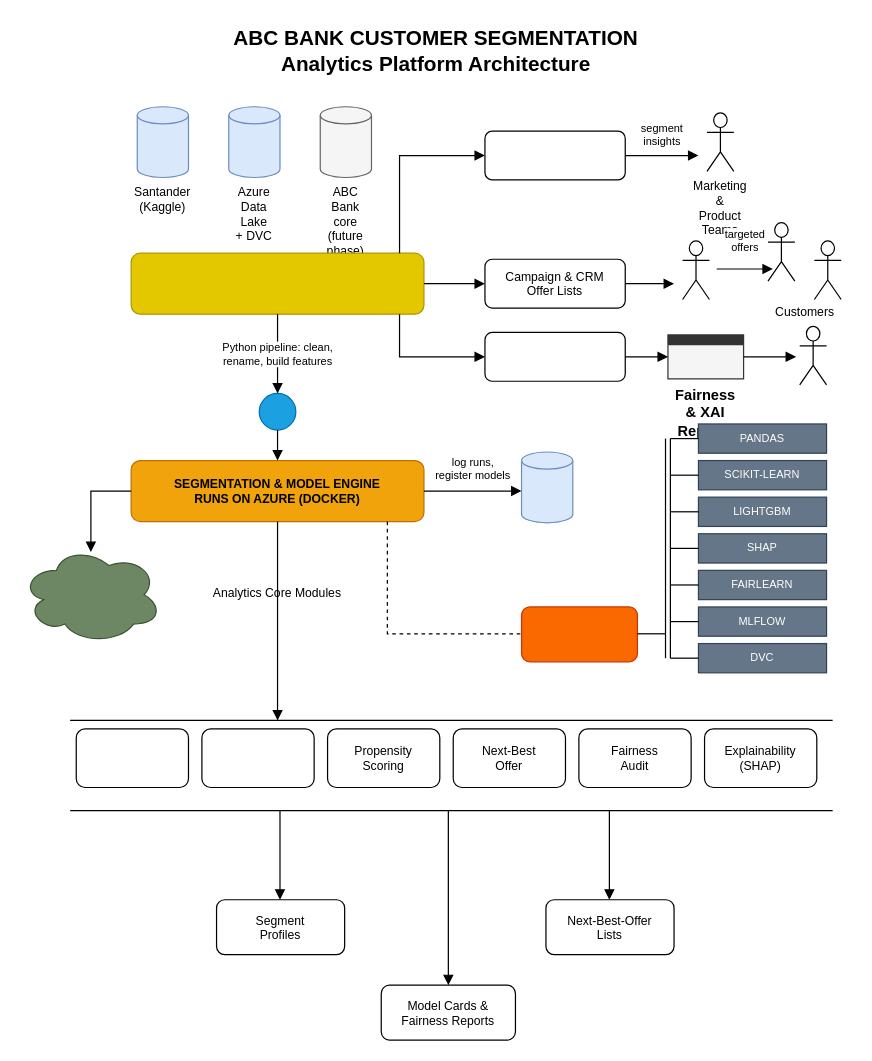
Some shapes in this 872 by 1061 pixel diagram are drawn without their labels. Each missing label, with the centre of its shape:
"ABC BANK DATA & ANALYTICS HUB HOSTED ON AZURE" goes at point (277, 283).
"Customer Segmentation" goes at point (257, 758).
"Data Cleaning & Features" goes at point (131, 758).
"Ethics Panel" goes at point (812, 355).
"Fairness & XAI audit (Fairlearn, SHAP)" goes at point (91, 594).
"GitHub Repo + Actions CI" goes at point (578, 634).
"MLflow Model Registry" goes at point (546, 487).
"Model Ethics Review Pack" goes at point (554, 356).
"Relationship Manager" goes at point (695, 270).
"Segment Dashboard (Streamlit / Power BI)" goes at point (554, 155).
